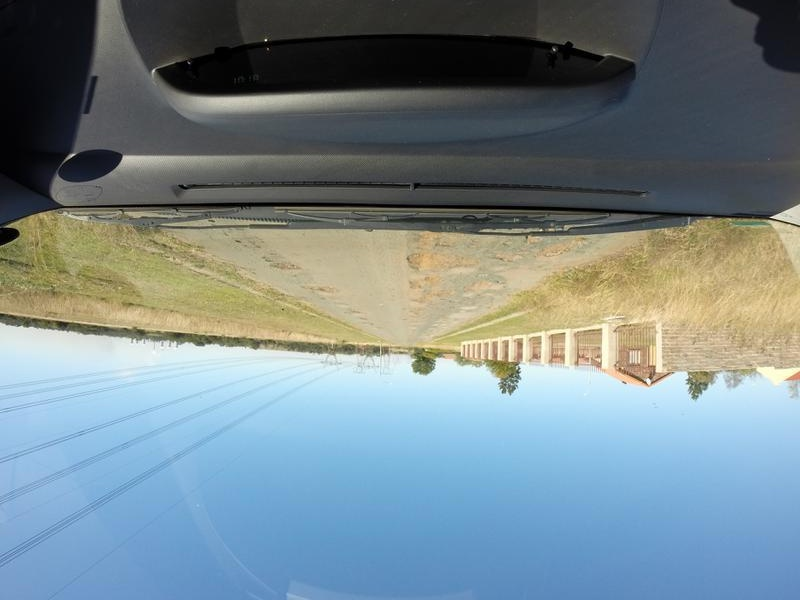pothole: (407, 249, 480, 274), (465, 276, 520, 299), (399, 277, 448, 297), (543, 237, 585, 260), (234, 226, 270, 249), (269, 256, 308, 273), (302, 281, 345, 295), (492, 248, 523, 267), (330, 298, 362, 311)
